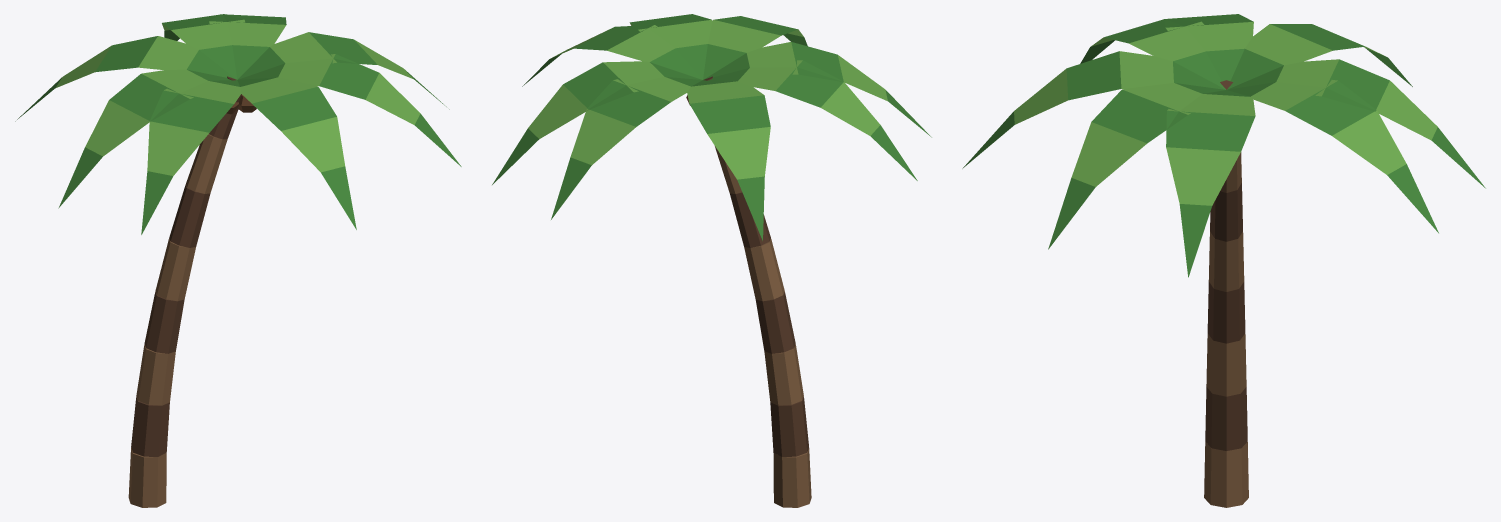
File: palm.glb
3 renders of one model, left to right at view 1: azimuth 30°, elevation 25°; view 2: azimuth 150°, elevation 25°; view 3: azimuth 270°, elevation 25°, orthographic. The views are drawn at different scales.
Visible parts, largest first — view 1: palm; view 2: palm; view 3: palm.
Boxes of the visible parts, <box> form: palm: <box>15,14,461,507</box>; palm: <box>492,14,931,507</box>; palm: <box>962,14,1485,507</box>.
Bounding box in the file's own units: 12.85 × 12.97 × 12.87.
